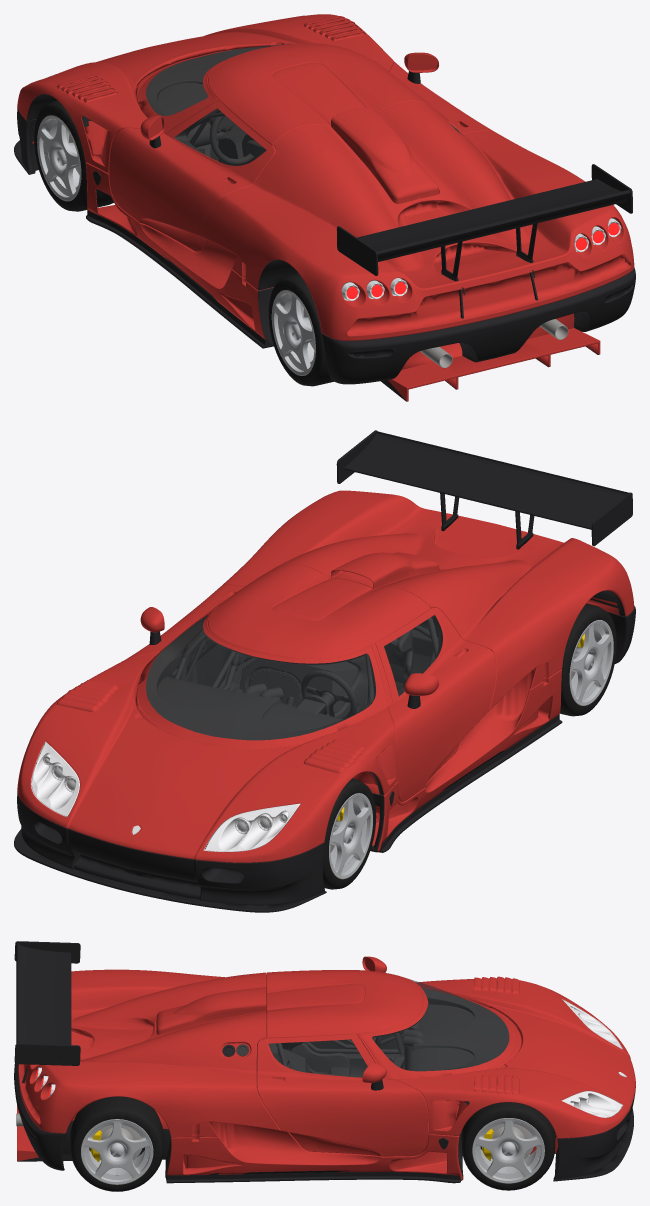
File: ccgt.glb
3 renders of one model, top to bottom at view 1: azimuth 30°, elevation 25°; view 2: azimuth 150°, elevation 25°; view 3: azimuth 270°, elevation 25°, orthographic. The views are drawn at different scales.
Visible parts, largest first — view 1: Body, Wing, Wheel_RL, Wheel_FL, SteeringWheel, Mirror_R, Mirror_L; view 2: Body, Wing, Wheel_RL, Wheel_FL, SteeringWheel, Mirror_L; view 3: Body, Wing, Wheel_RR, Wheel_FR, Mirror_R.
Boxes of the visible parts, x1,y1,x2,y2 form: Body: (14,14,635,401); Wing: (336,164,632,281); Wheel_RL: (268,273,333,386); Wheel_FL: (34,100,113,211); SteeringWheel: (209,112,254,165); Mirror_R: (404,52,438,83); Mirror_L: (140,115,164,148); Body: (14,490,635,912); Wing: (336,430,632,549); Wheel_RL: (560,603,616,716); Wheel_FL: (323,778,376,889); SteeringWheel: (301,670,357,719); Mirror_L: (404,673,438,708); Body: (14,969,635,1183); Wing: (14,941,80,1065); Wheel_RR: (70,1096,163,1191); Wheel_FR: (461,1102,555,1190); Mirror_R: (362,1062,386,1090).
Size of the model in its own units: 2 by 1.08 by 4.27.
